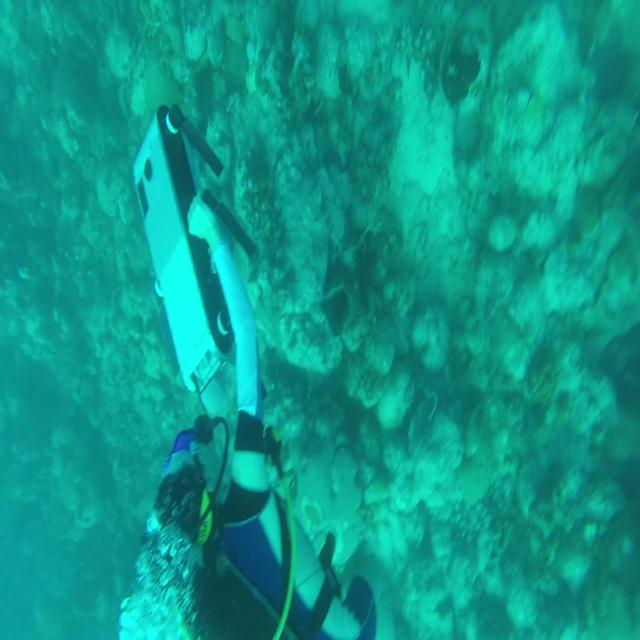human: (120, 102, 376, 638)
